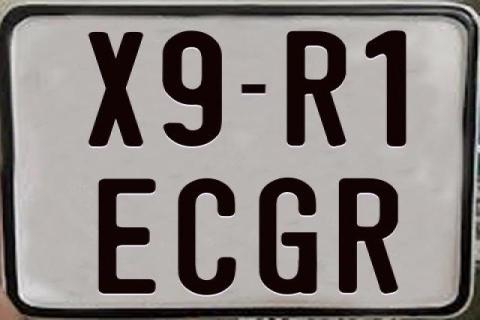0: (161, 30, 224, 148), (365, 30, 408, 146)
C: (177, 179, 237, 295)
E: (96, 177, 155, 293)
G: (257, 177, 319, 295)
R: (287, 29, 349, 145), (337, 178, 396, 298)
X: (87, 30, 147, 146)
